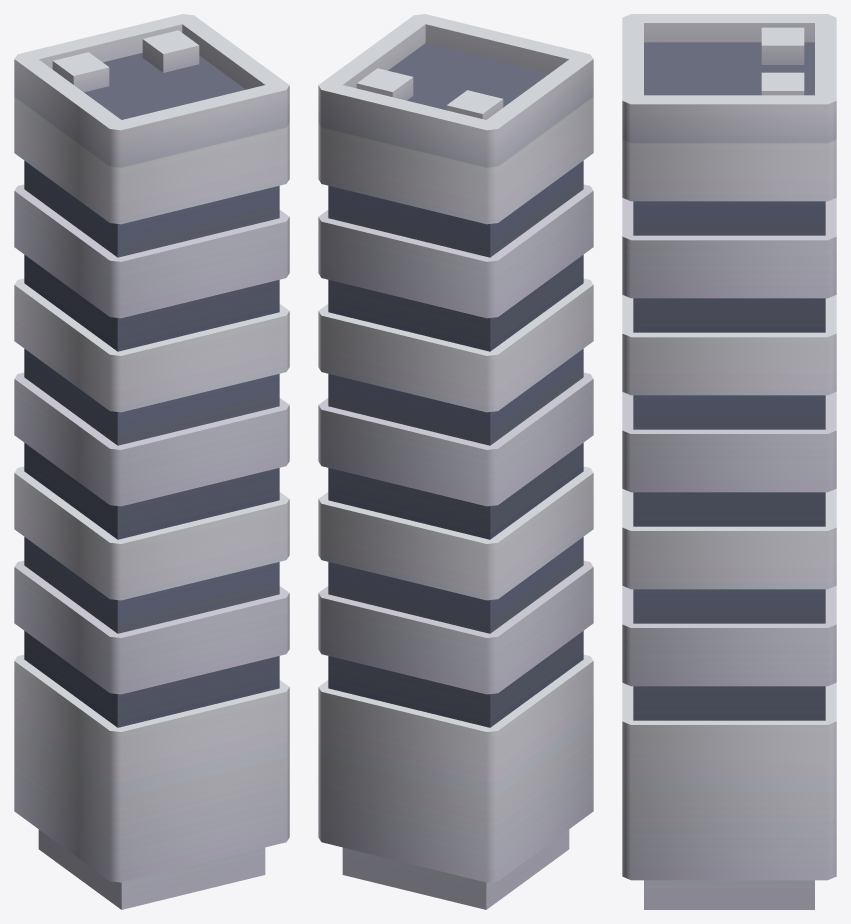
Rendered from low-detail-building-h.glb.
The picture shows the model from 3 angles, left to right: view 1: azimuth 30°, elevation 25°; view 2: azimuth 150°, elevation 25°; view 3: azimuth 270°, elevation 25°; orthographic projection. The views are drawn at different scales.
Visible parts, largest first — view 1: low-detail-building-h; view 2: low-detail-building-h; view 3: low-detail-building-h.
Part boxes in pixels (<box>): low-detail-building-h: <box>14,14,289,909</box>; low-detail-building-h: <box>318,14,593,909</box>; low-detail-building-h: <box>622,14,836,909</box>.
Bounding box in the file's own units: 0.5 × 2.1 × 0.5.
1 material, 1 textured.
